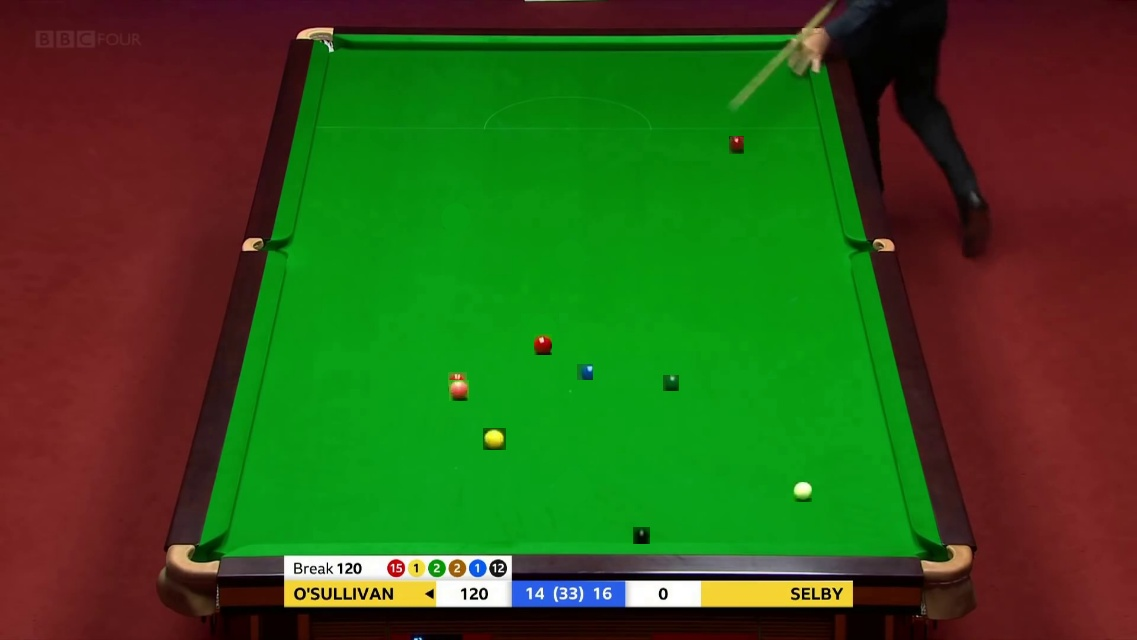black: (633, 527, 650, 544)
blue: (577, 364, 593, 380)
brown: (729, 136, 747, 151)
green: (663, 375, 679, 391)
pink: (449, 380, 470, 400)
red: (448, 372, 468, 391), (534, 334, 555, 352)
white: (793, 481, 814, 500)
yellow: (483, 428, 505, 451)
